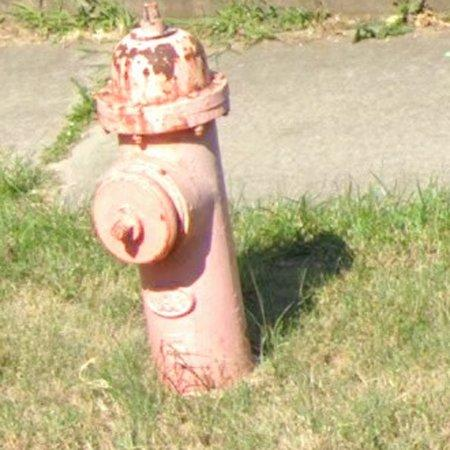a fire hydrant: (92, 1, 253, 396)
